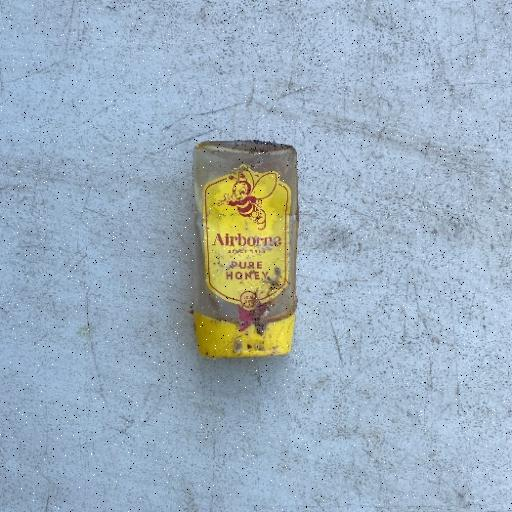Plastic: (188, 138, 300, 360)
